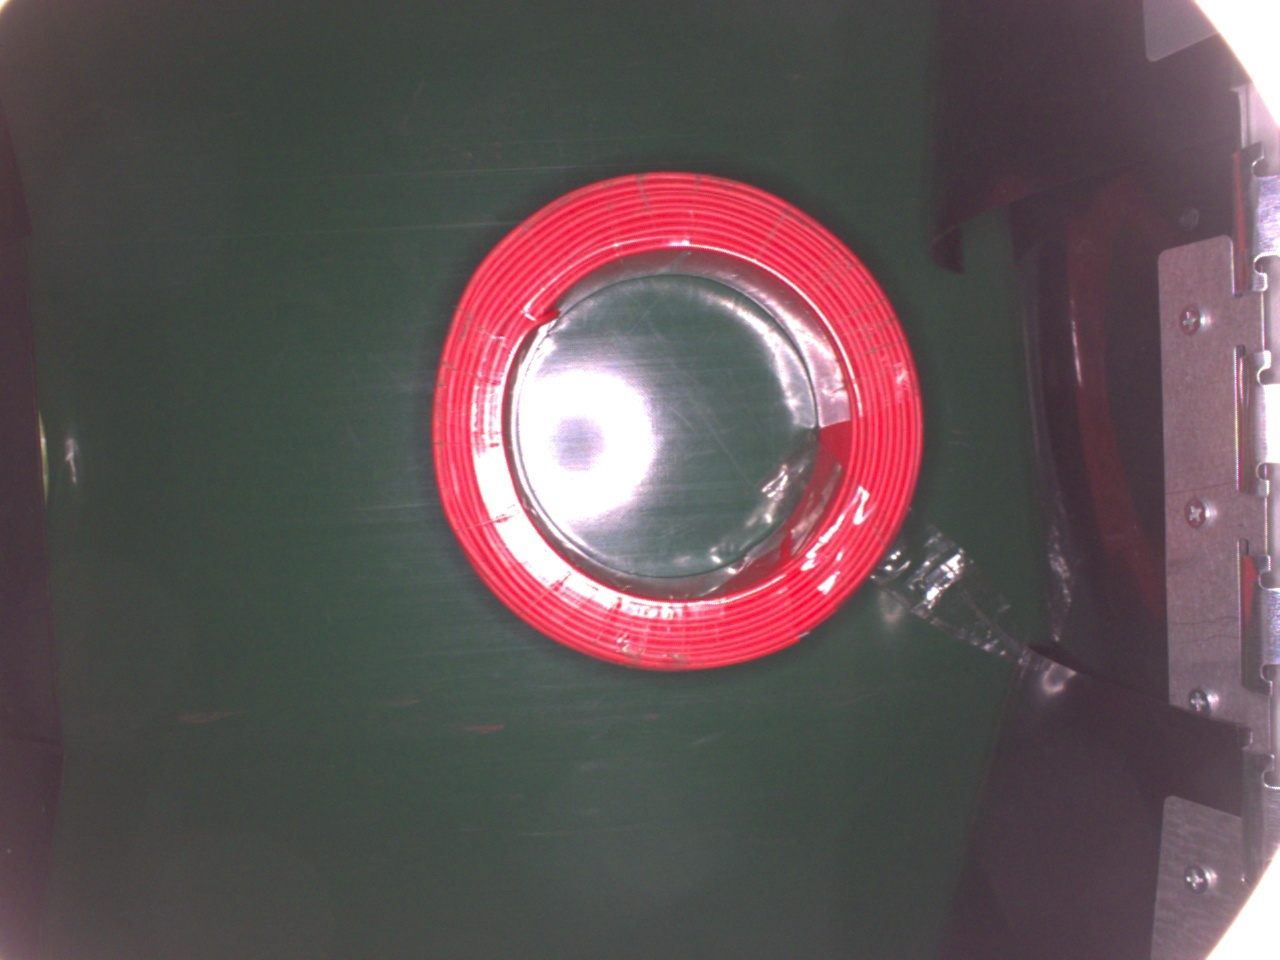red: (421, 168, 924, 666)
